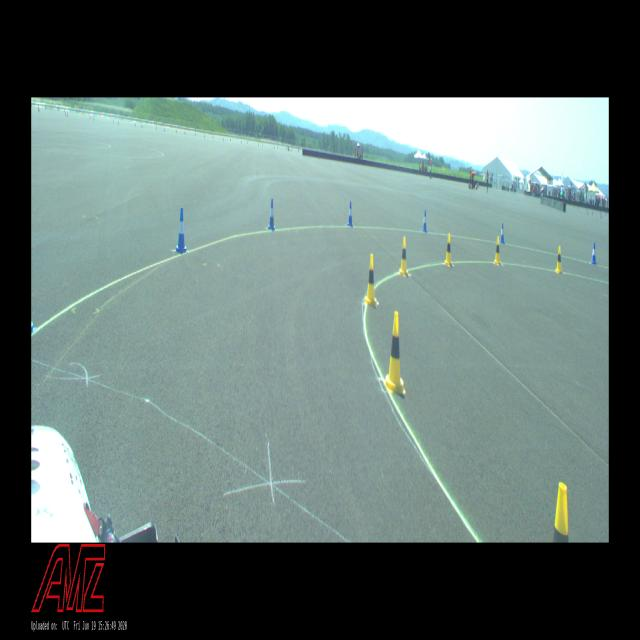blue_cone: (175, 208, 188, 254), (268, 199, 276, 230), (347, 201, 353, 227), (590, 242, 597, 264), (422, 210, 428, 232), (499, 223, 505, 244)
yellow_cone: (383, 312, 406, 395), (552, 482, 569, 543), (364, 253, 379, 308), (399, 236, 408, 277), (444, 233, 453, 266), (494, 236, 501, 266), (556, 246, 562, 274)
